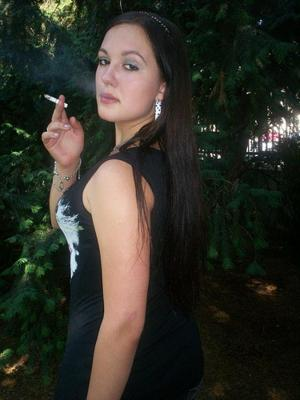person: (41, 8, 206, 398)
